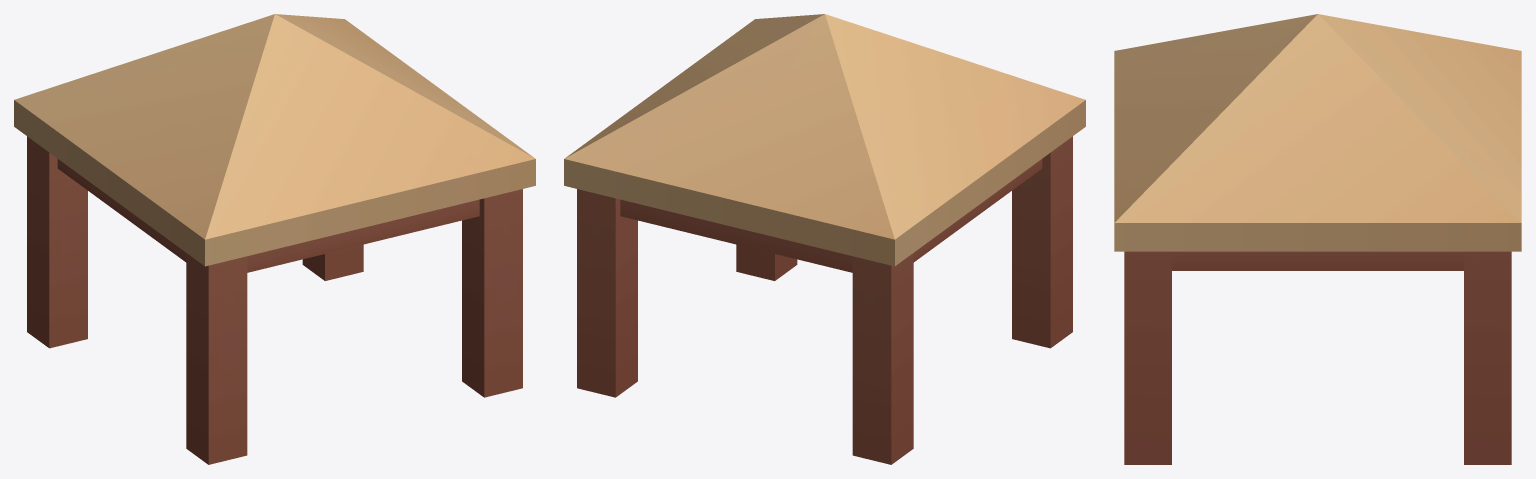
The model's file is tent.glb.
3 views of the same model, side by side, from view 1: azimuth 30°, elevation 25°; view 2: azimuth 150°, elevation 25°; view 3: azimuth 270°, elevation 25° (orthographic). The views are drawn at different scales.
Parts seen in each view (by area): view 1: tent; view 2: tent; view 3: tent.
Part boxes in pixels (box(x1,y1,x2,y2)): tent: box(14, 14, 535, 464); tent: box(564, 14, 1085, 464); tent: box(1114, 14, 1521, 464).
Bounding box in the file's own units: 0.516 × 0.516 × 0.516.
Materials: 1 (1 with a texture image).
